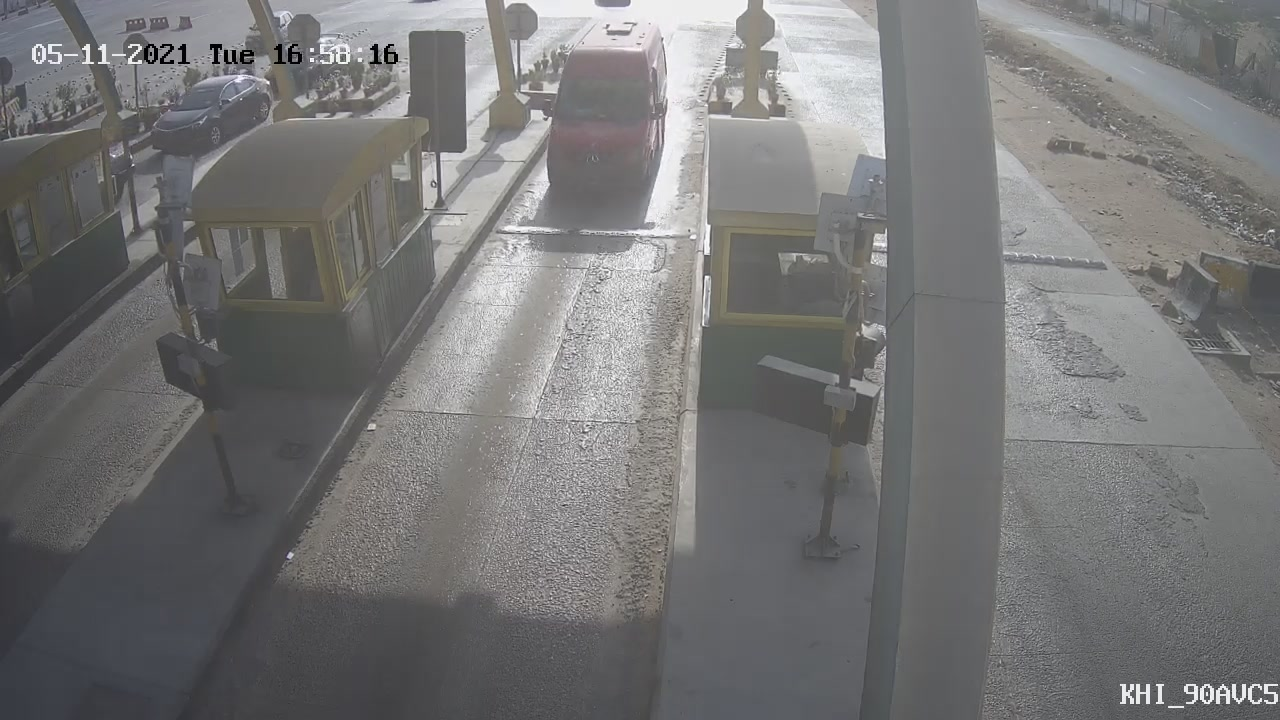F2: (521, 8, 691, 216)
